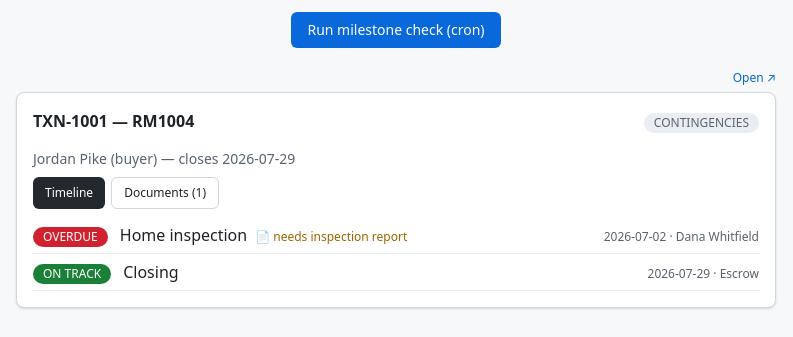
Scenario: TransactionsBoard documents tie-in › switches the card to the Documents tab
Click the button "Documents (1)" at (165, 193), box [111,177,219,209]
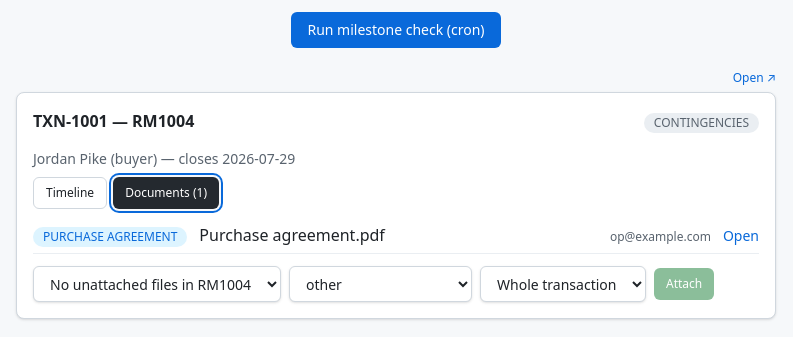
Expected: the text "Purchase agreement.pdf" is shown, [199,224,385,246]
Expected: the link "Open" is shown, [723,226,759,246]
// back to the timeline
Click the button "Timeline" at (70, 193), box [33,177,107,209]
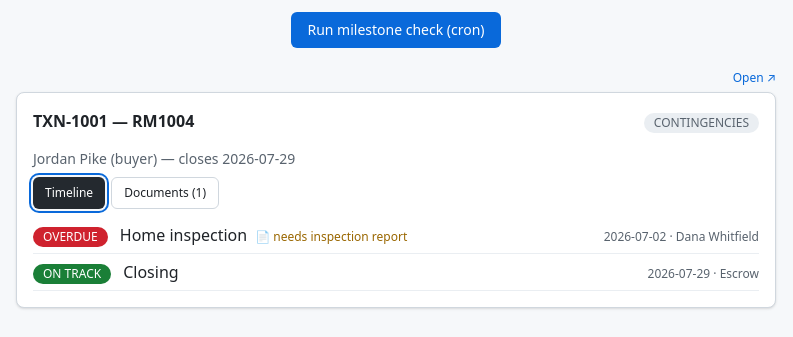
Expected: the text "Home inspection" is shown, [120,224,247,246]
